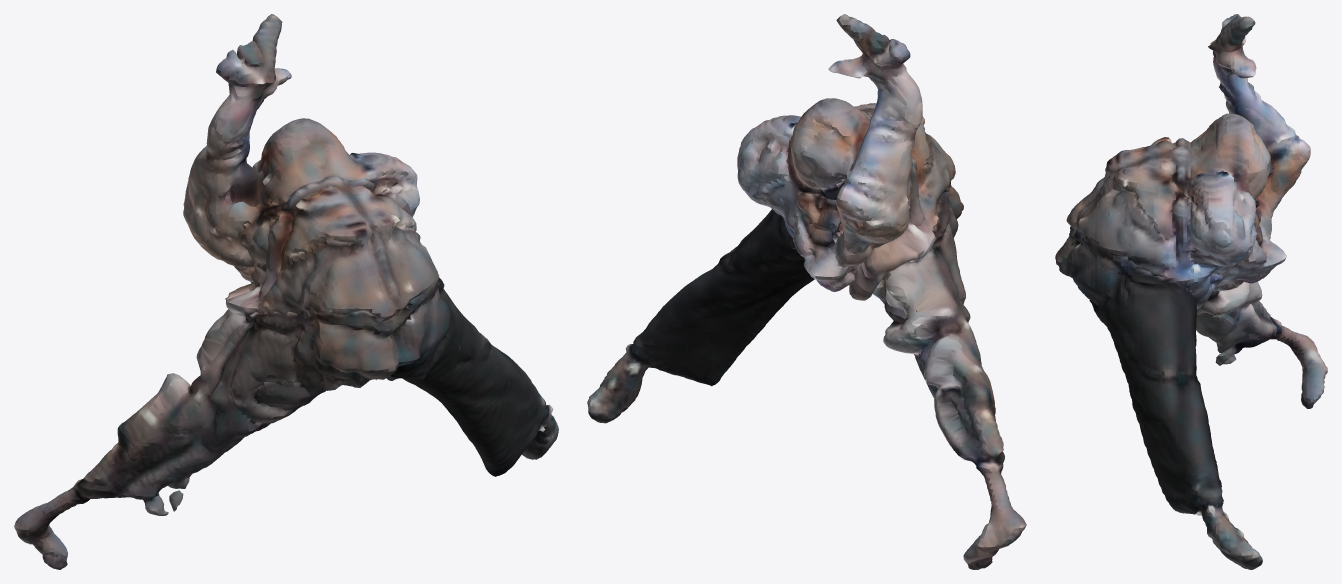
The model's file is Spanko.glb.
3 views of the same model, side by side, from view 1: azimuth 30°, elevation 25°; view 2: azimuth 150°, elevation 25°; view 3: azimuth 270°, elevation 25° (orthographic). The views are drawn at different scales.
Parts seen in each view (by area): view 1: HF_chimera_02.obj; view 2: HF_chimera_02.obj; view 3: HF_chimera_02.obj.
Boxes of the visible parts, x1,y1,x2,y2 form: HF_chimera_02.obj: (14,14,558,569); HF_chimera_02.obj: (587,14,1026,569); HF_chimera_02.obj: (1055,14,1327,569).
Size of the model in its own units: 1.51 by 1.54 by 0.8144.
1 material, 1 textured.
